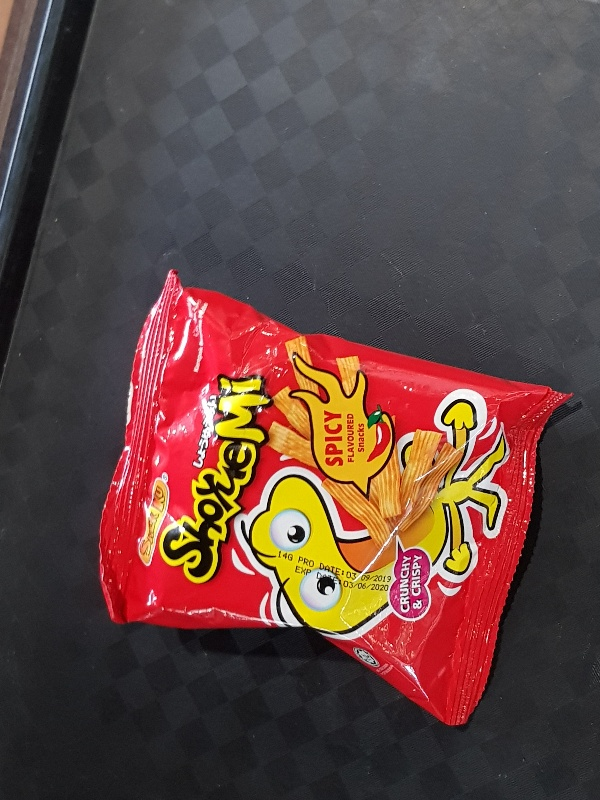ShoyueMi Spicy Flavoured Snacks: (97, 267, 567, 727)
